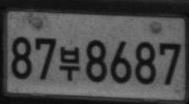6: (110, 40, 132, 84)
7: (158, 41, 182, 85), (34, 37, 57, 80)
8: (84, 38, 107, 83), (10, 36, 33, 80), (134, 40, 157, 84)
부: (58, 45, 80, 81)
